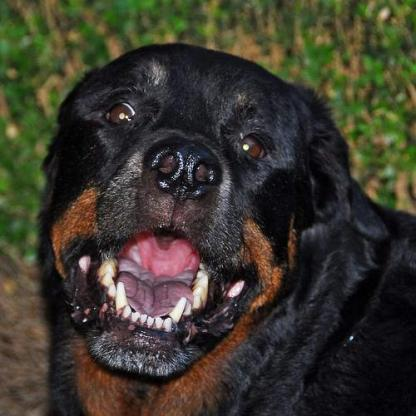Rottweiler: (33, 40, 413, 413)
